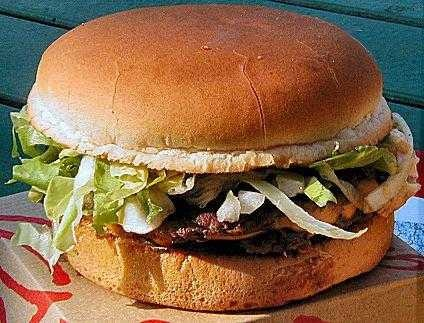hamburger: (20, 7, 415, 305)
